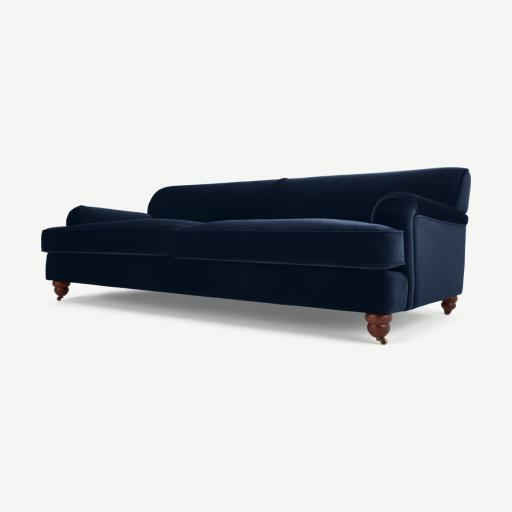back_cushion: (148, 168, 470, 222)
base: (46, 253, 406, 313)
left_arm: (372, 191, 467, 310)
legs: (365, 314, 392, 344), (53, 281, 70, 300), (442, 297, 457, 314)
right_arm: (67, 205, 152, 226)
seat_cushion: (42, 218, 404, 270)
two-seater: (0, 0, 511, 512)
